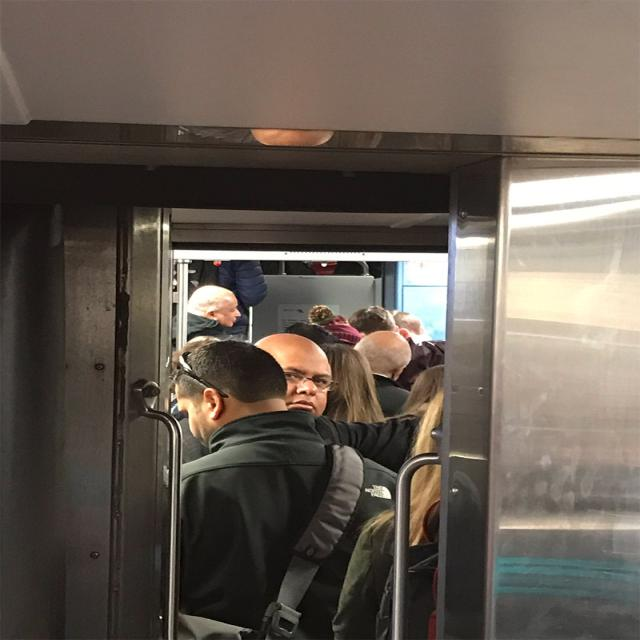body: (170, 339, 405, 640), (158, 253, 448, 420), (328, 389, 443, 639), (172, 331, 365, 466), (252, 331, 422, 464), (167, 282, 255, 354), (327, 346, 385, 422)
